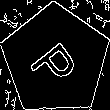P_NE: (26, 30, 85, 91)
